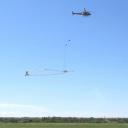helicopter: (73, 10, 95, 19)
